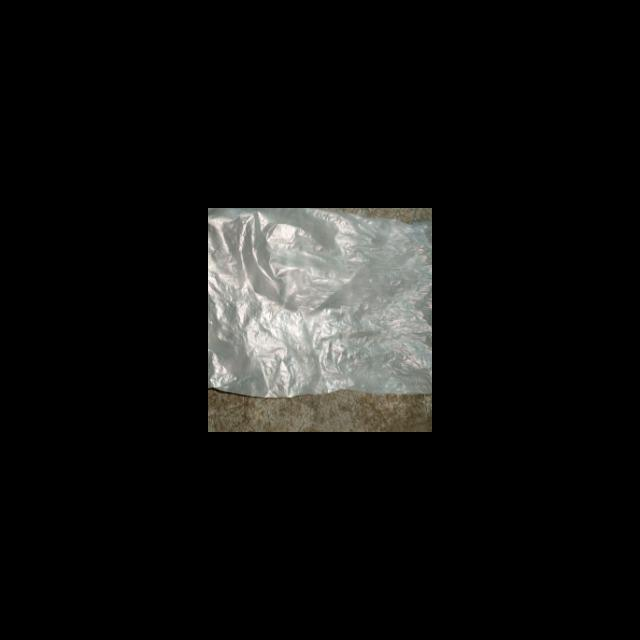plastic: (208, 208, 432, 399)
